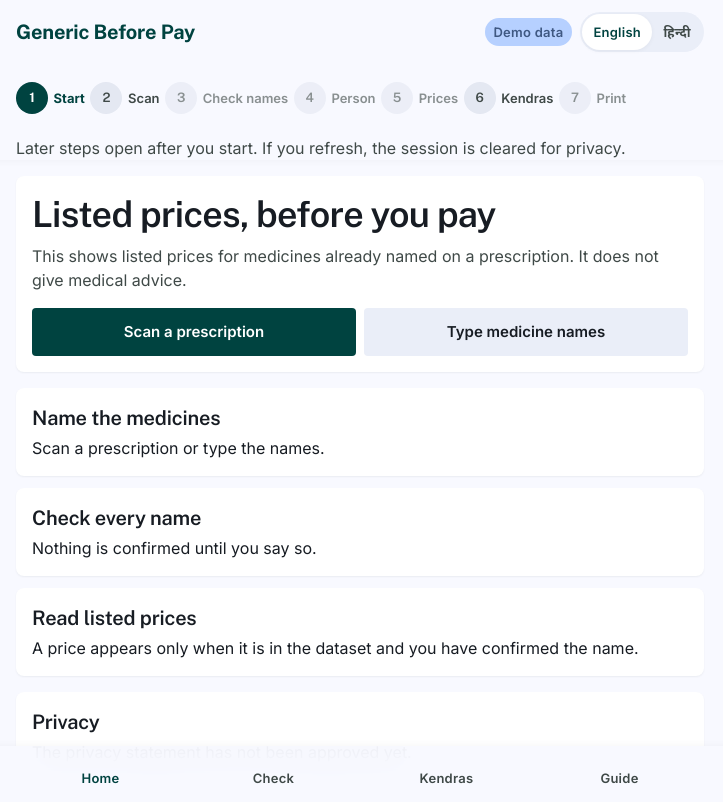
Test case: app shell › switches language and updates the document language
The width and height of the screenshot is (723, 802).
Click the button "हिन्दी" at (677, 32), box [652,14,702,50]
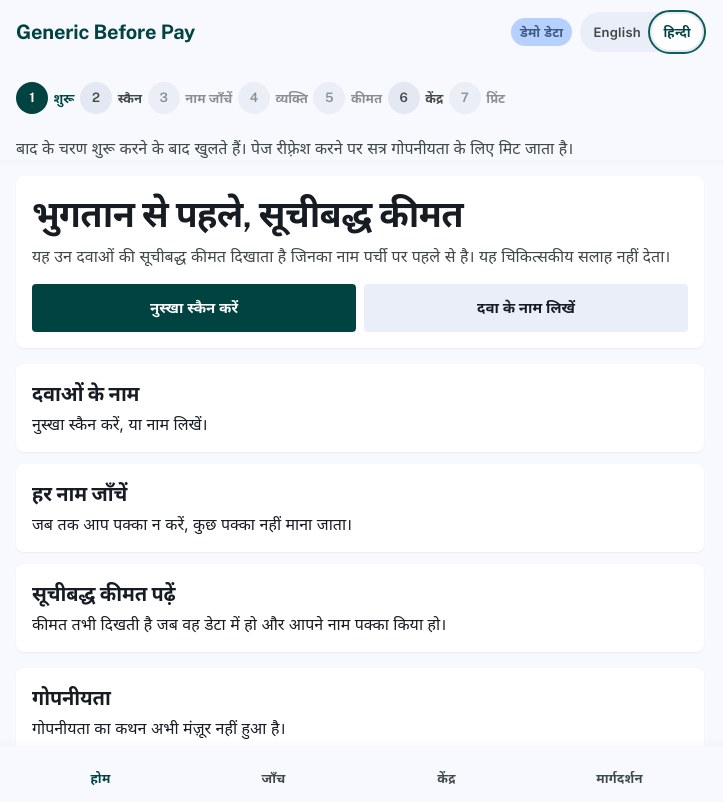
Expected: the heading "भुगतान से पहले, सूचीबद्ध कीमत" is shown, [32,193,463,235]
Expected: the text "डेमो डेटा" is shown, [511,18,572,46]
